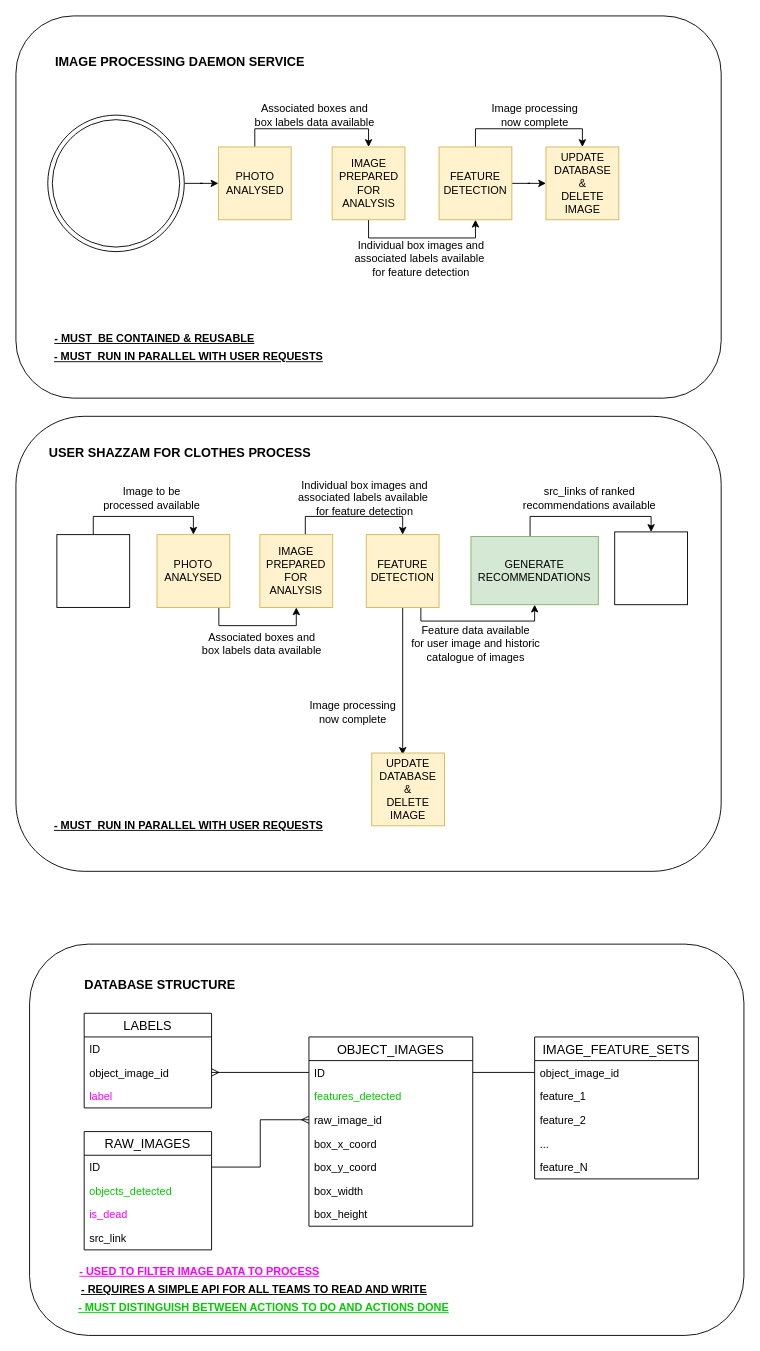
Image size: 760x1351. Some labels were removed from this diagram. Here are the shapes that lost their labels. From the top down, the centre of each, then its label:
At pixel 115 183: "UNPROCESSED IMAGE DETECTED".
At pixel 93 570: "USER TAKES PHOTO".
At pixel 651 568: "SEND RESULTS TO USER".
